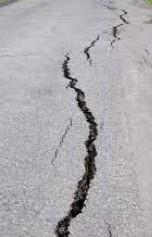crack: (52, 53, 98, 237), (106, 8, 130, 48), (77, 26, 102, 60)
